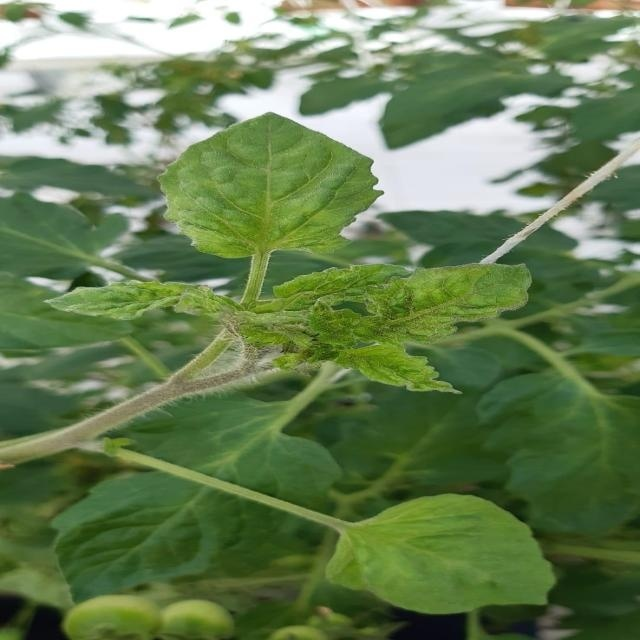T_L_H: (329, 495, 556, 615)
T_L_R: (161, 115, 383, 259), (356, 265, 532, 346), (253, 265, 413, 315), (47, 282, 239, 321), (337, 346, 459, 394), (239, 312, 312, 352), (310, 304, 361, 347)
T_S_H: (102, 441, 355, 534)
T_S_R: (180, 335, 231, 378), (242, 254, 272, 309)
